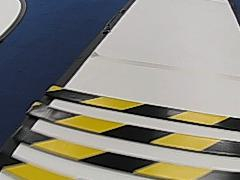bump: (12, 85, 240, 177)
